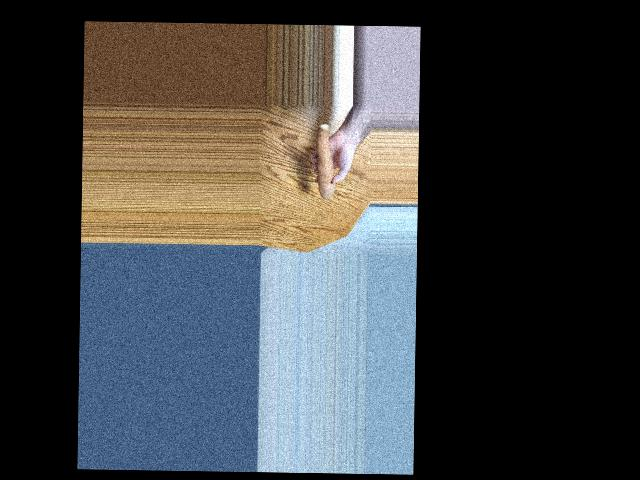sweet_potato: (311, 129, 331, 199)
